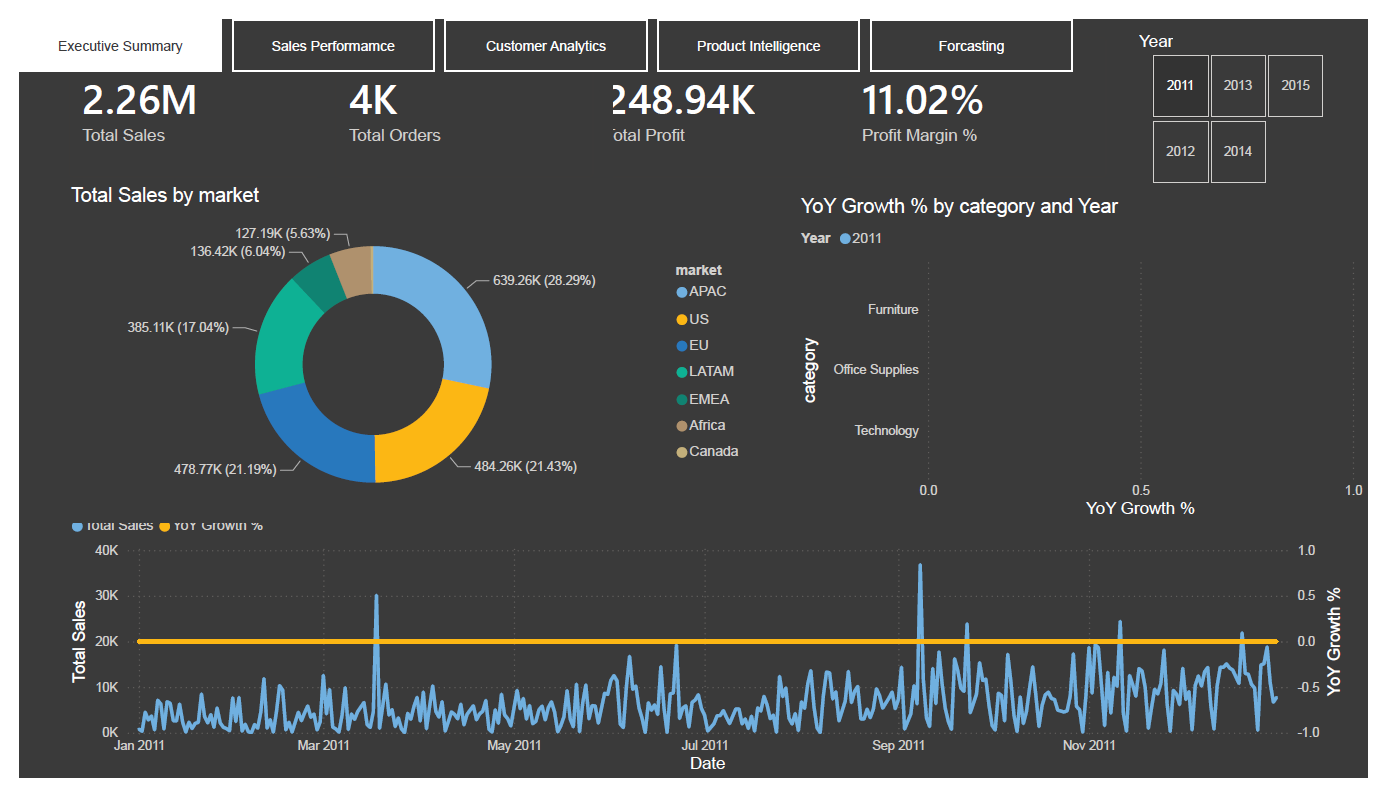

What the dashboard file says about the page in this screenshot:
{"tool":"powerbi","page":{"name":"Executive Summary","canvas":[1280,720],"ordinal":0},"visuals":[{"type":"cardVisual","fields":{"Data":["_Measures.Total Sales"]},"box":[30.2,0,279.9,167.4],"z":0},{"type":"cardVisual","fields":{"Data":["_Measures.Total Profit"]},"box":[525.6,0,279.9,167.4],"z":1000},{"type":"cardVisual","fields":{"Data":["_Measures.Total Orders"]},"box":[282.7,0,279.9,167.4],"z":2000},{"type":"cardVisual","fields":{"Data":["_Measures.Profit Margin %"]},"box":[769.8,0,279.9,167.4],"z":3000},{"type":"lineChart","fields":{"Y":["_Measures.Total Sales"],"Y2":["_Measures.yoY Growth %"],"Category":["Dim_Date.Date"]},"box":[43.9,440.5,1218.5,279.9],"z":4000},{"type":"donutChart","fields":{"Category":["Dim_Geography.market"],"Y":["_Measures.Total Sales"]},"box":[43.9,156.4,653.2,321.1],"z":5000},{"type":"clusteredBarChart","fields":{"Category":["Dim_Product.category"],"Y":["_Measures.yoY Growth %"],"Series":["Dim_Date.Year"]},"box":[736.9,167.4,543.4,310.1],"z":6000},{"type":"slicer","fields":{"Values":["Dim_Date.Year"]},"box":[1049.7,6.9,212.7,155.1],"z":7000},{"type":"pageNavigator","box":[0,0,1000,50],"z":8000}]}

Visuals, with their boxes in screenshot pixels (x1, y1, x2, y2), scaled from the page's 1280x720 canvas onto the 1386x797 screenshot:
cardVisual - _Measures.Total Sales: <bbox>33, 0, 336, 185</bbox>
cardVisual - _Measures.Total Profit: <bbox>569, 0, 872, 185</bbox>
cardVisual - _Measures.Total Orders: <bbox>306, 0, 609, 185</bbox>
cardVisual - _Measures.Profit Margin %: <bbox>834, 0, 1137, 185</bbox>
lineChart - _Measures.Total Sales x _Measures.yoY Growth %: <bbox>48, 488, 1367, 796</bbox>
donutChart - Dim_Geography.market x _Measures.Total Sales: <bbox>48, 173, 755, 529</bbox>
clusteredBarChart - Dim_Product.category x _Measures.yoY Growth %: <bbox>798, 185, 1385, 529</bbox>
slicer - Dim_Date.Year: <bbox>1137, 8, 1367, 179</bbox>
pageNavigator: <bbox>0, 0, 1083, 55</bbox>
